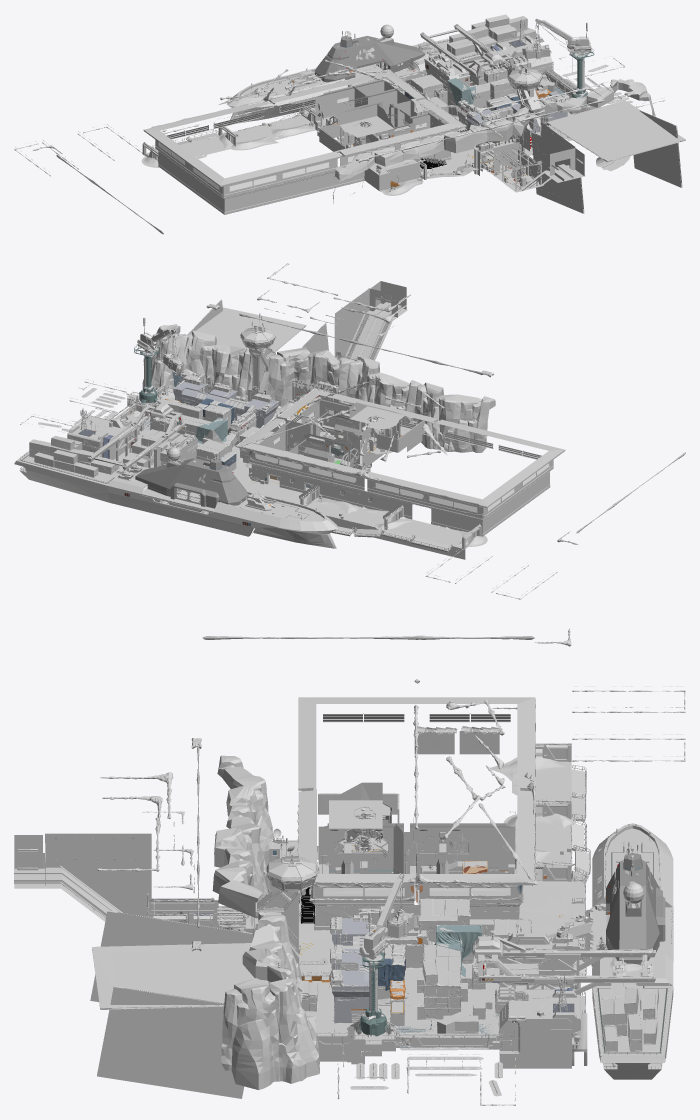
3 views of the same model, one above another, from view 1: azimuth 30°, elevation 25°; view 2: azimuth 150°, elevation 25°; view 3: azimuth 270°, elevation 25° (orthographic). The views are drawn at different scales.
Parts seen in each view (by area): view 1: Shell_0_WarehouseInteriorA; view 2: Shell_0_WarehouseInteriorA; view 3: Shell_0_WarehouseInteriorA.
Part boxes in pixels (left/top/right/bottom): Shell_0_WarehouseInteriorA: left=14, top=14, right=685, bottom=234; Shell_0_WarehouseInteriorA: left=14, top=263, right=685, bottom=599; Shell_0_WarehouseInteriorA: left=14, top=628, right=685, bottom=1105.
Size of the model in its own units: 287 by 62.75 by 191.
